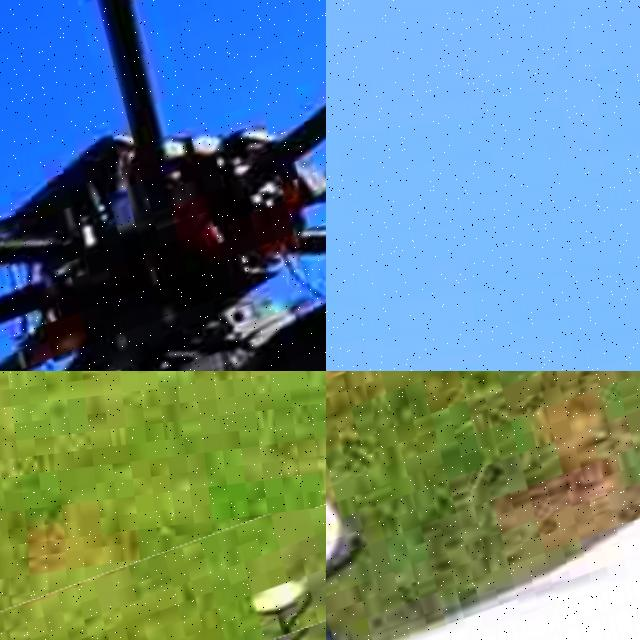drone: (0, 0, 326, 371), (326, 371, 640, 640), (0, 486, 326, 640)
